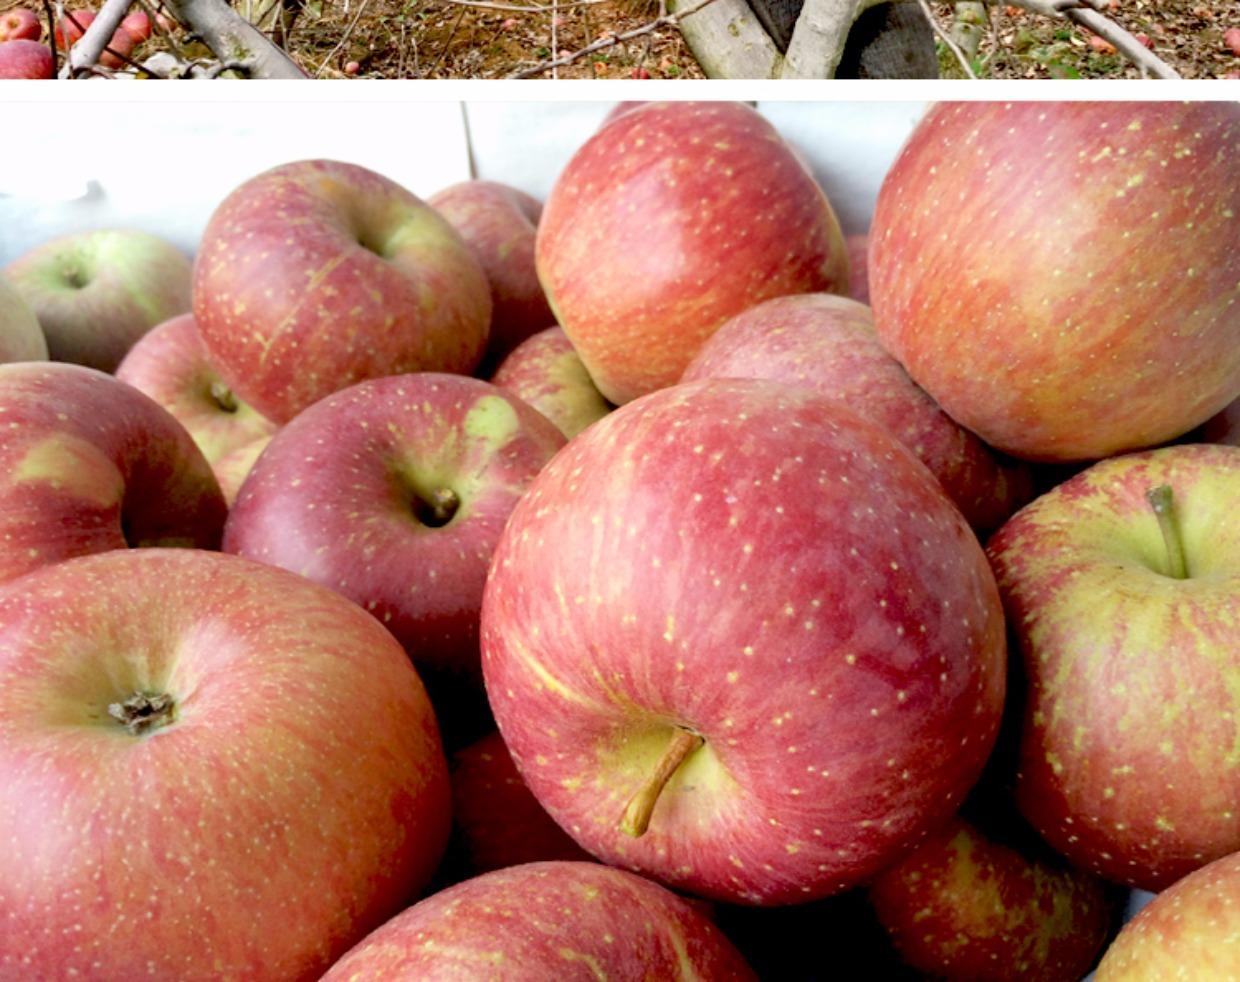apple: (467, 365, 1002, 909), (1, 534, 453, 982), (874, 104, 1238, 469), (987, 440, 1238, 876), (225, 371, 575, 673), (540, 98, 849, 402), (195, 157, 490, 427), (5, 356, 232, 577), (8, 225, 201, 373)
